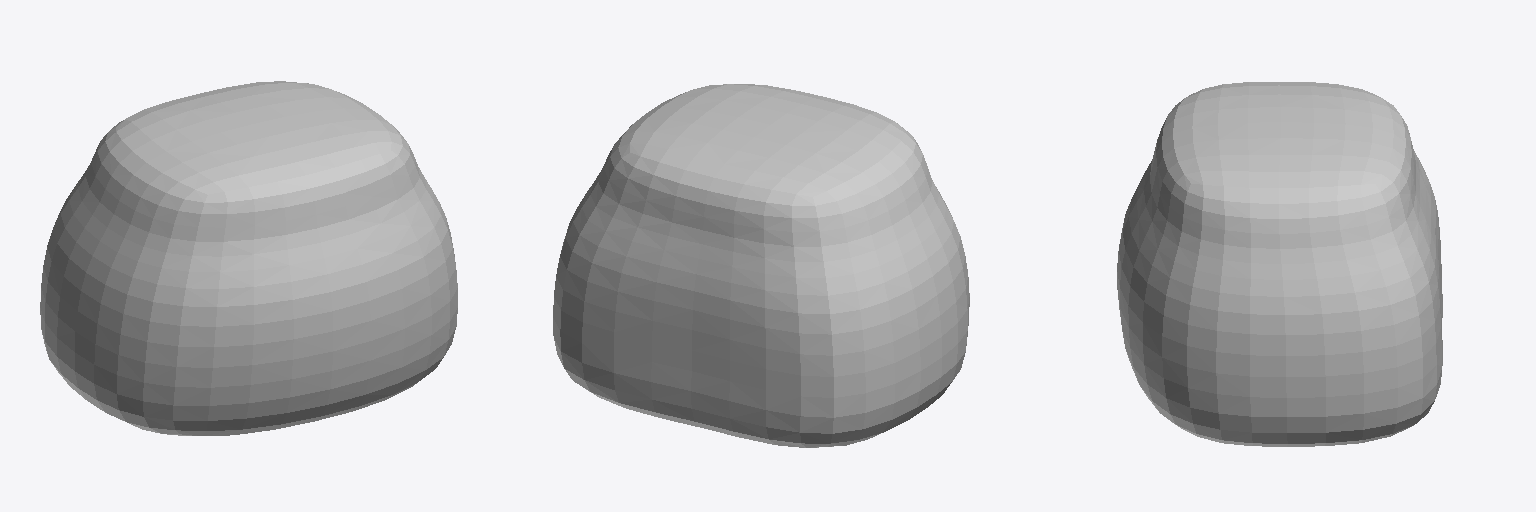
File: pelvis.obj
The picture shows the model from 3 angles: view 1: azimuth 30°, elevation 25°; view 2: azimuth 150°, elevation 25°; view 3: azimuth 270°, elevation 25°; orthographic projection.
Parts seen in each view (by area): view 1: pCube3; view 2: pCube3; view 3: pCube3.
Boxes of the visible parts, x1=… form: pCube3: x1=40, y1=81, x2=457, y2=435; pCube3: x1=553, y1=84, x2=969, y2=447; pCube3: x1=1117, y1=82, x2=1442, y2=446.
Bounding box in the file's own units: 1.99 × 1.42 × 1.58.